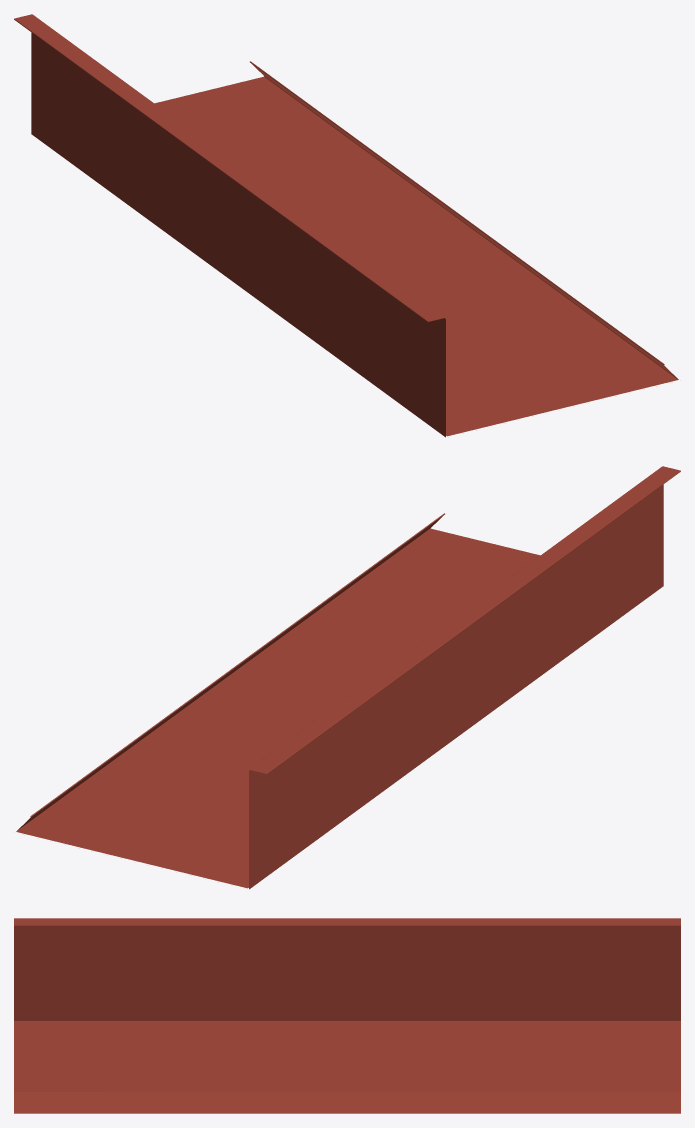
File: qwe.gltf
3 renders of one model, top to bottom at view 1: azimuth 30°, elevation 25°; view 2: azimuth 150°, elevation 25°; view 3: azimuth 270°, elevation 25°, orthographic. The views are drawn at different scales.
Parts seen in each view (by area): view 1: w1; view 2: w1; view 3: w1.
Boxes of the visible parts, x1=… form: w1: x1=14, y1=14, x2=678, y2=437; w1: x1=16, y1=466, x2=680, y2=889; w1: x1=14, y1=918, x2=680, y2=1113.
Bounding box in the file's own units: 704 × 320 × 2001.
